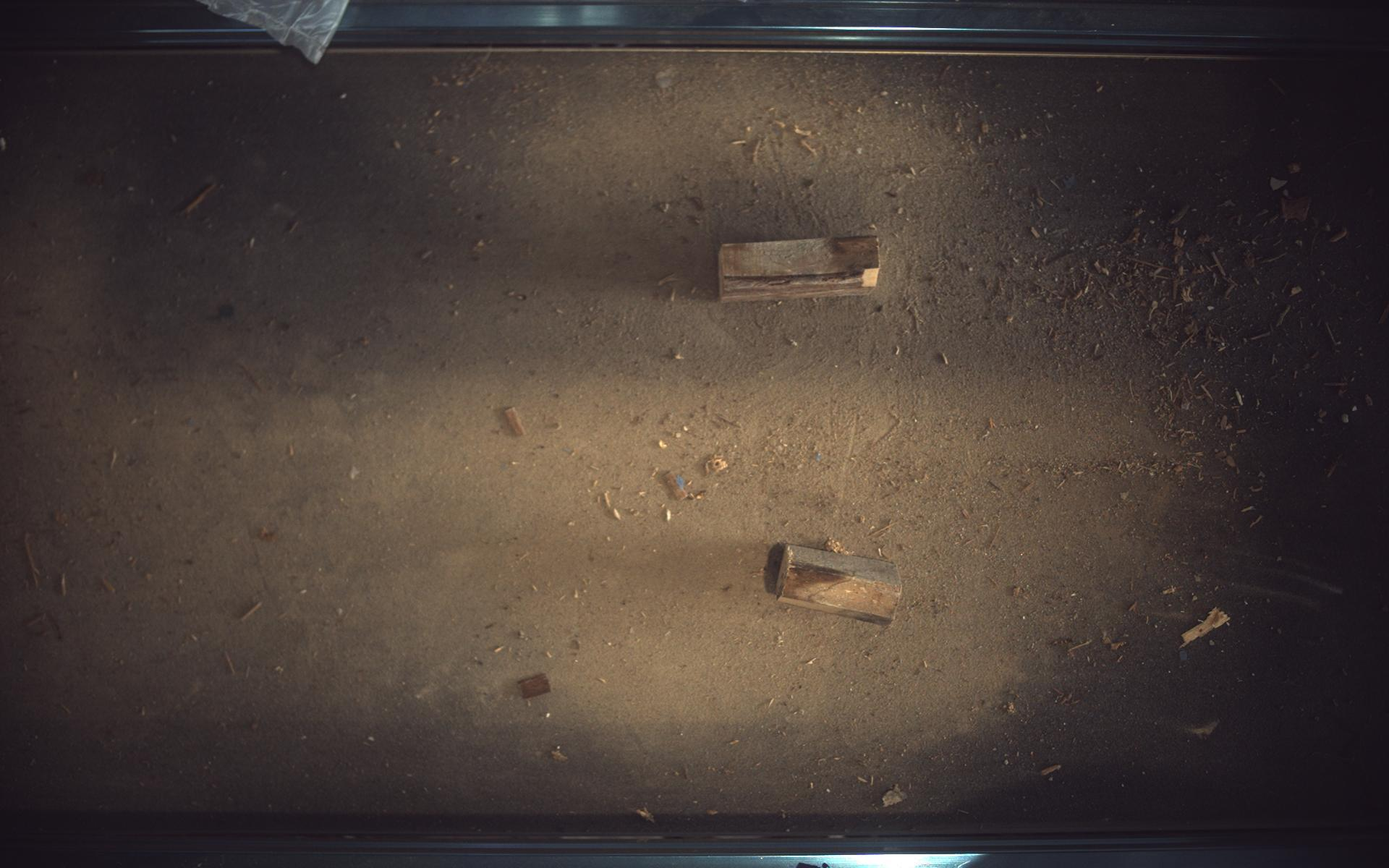wood: (720, 234, 882, 301), (777, 545, 904, 625)
